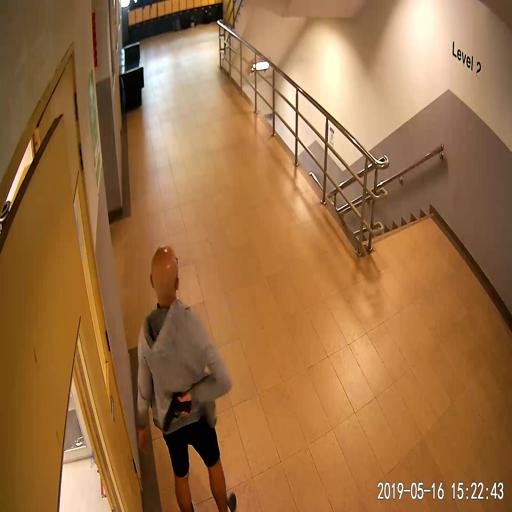pistol: (163, 393, 190, 430)
